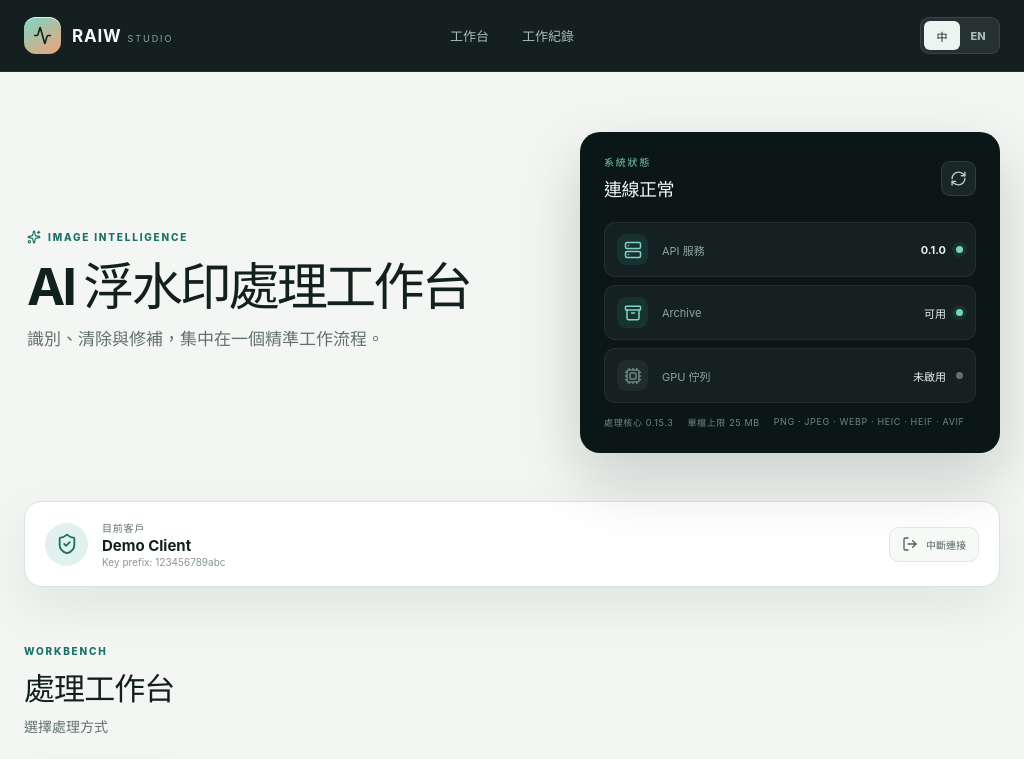
Test: workbench › starts in Traditional Chinese and switches to English
Expected: the text "Demo Client" is shown, x1=102 y1=536 x2=191 y2=555
Expected: the heading "AI 浮水印處理工作台" is shown, x1=27 y1=260 x2=516 y2=312
Click the button "EN" at point(978, 36), box x1=960 y1=21 x2=996 y2=50
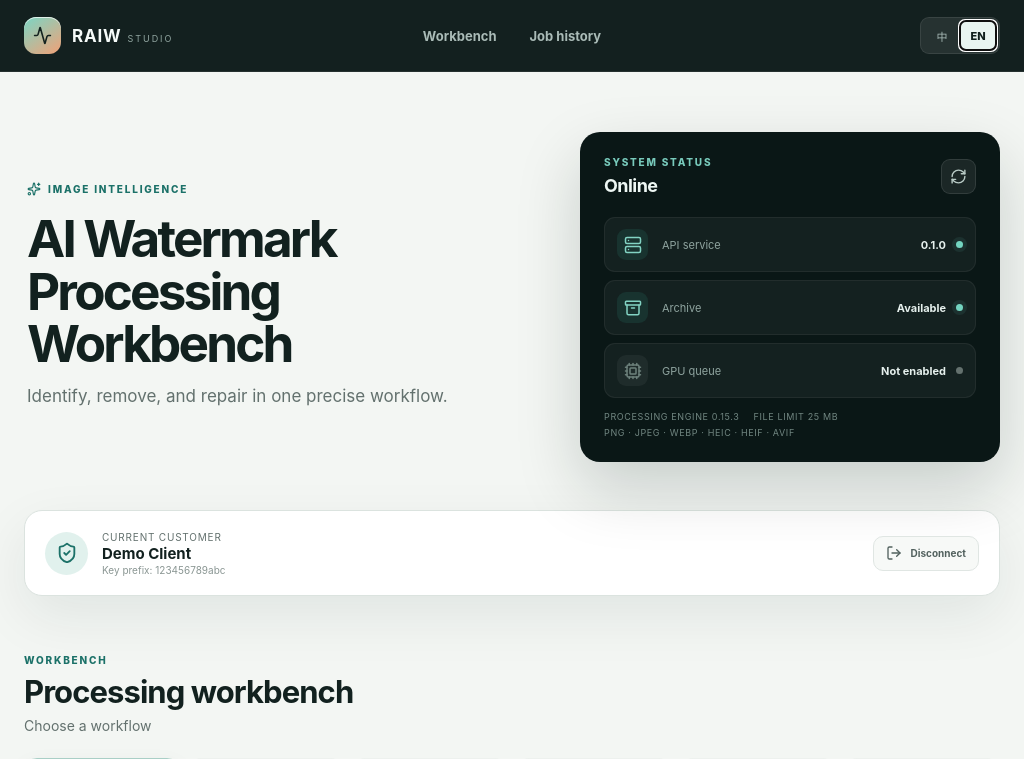
Expected: the heading "AI Watermark Processing Workbench" is shown, x1=27 y1=207 x2=336 y2=374
